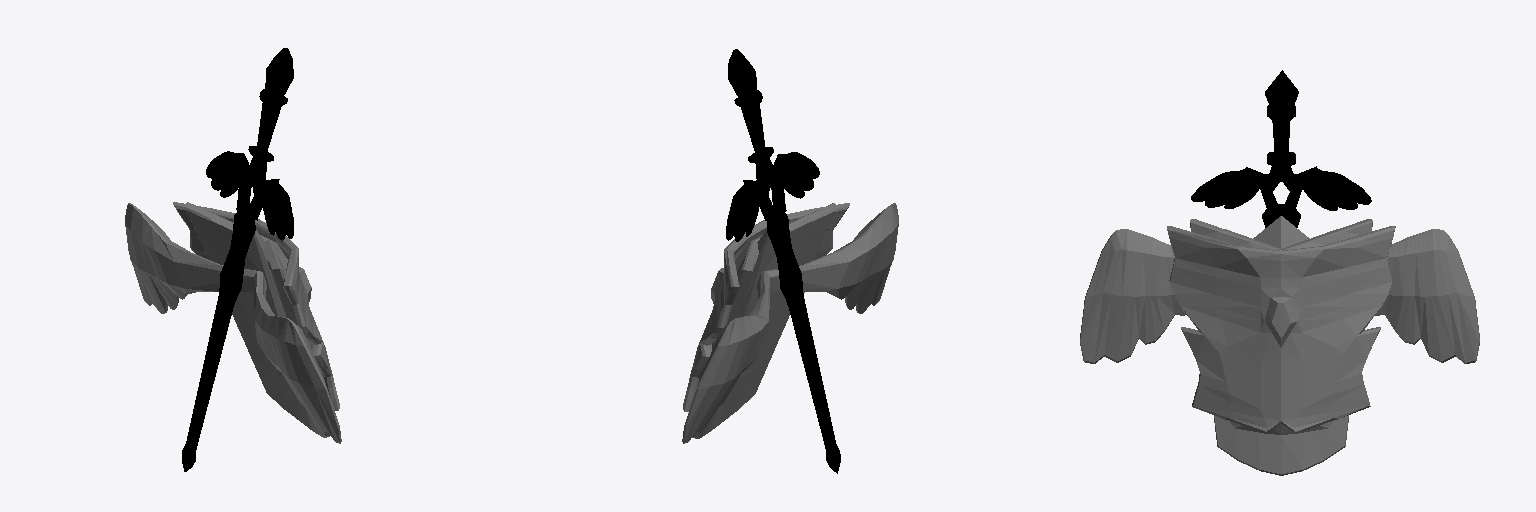
The model's file is meshSwordShield.obj.
3 renders of one model, left to right at view 1: azimuth 30°, elevation 25°; view 2: azimuth 150°, elevation 25°; view 3: azimuth 270°, elevation 25°, orthographic.
Visible parts, largest first — view 1: mesh_Shield, SwordFinal_Project_0019:mesh_Sword; view 2: mesh_Shield, SwordFinal_Project_0019:mesh_Sword; view 3: mesh_Shield, SwordFinal_Project_0019:mesh_Sword.
Part boxes in pixels (left/top/right/bottom): mesh_Shield: left=125, top=202, right=341, bottom=443; SwordFinal_Project_0019:mesh_Sword: left=182, top=48, right=293, bottom=471; mesh_Shield: left=682, top=203, right=898, bottom=443; SwordFinal_Project_0019:mesh_Sword: left=726, top=49, right=840, bottom=473; mesh_Shield: left=1080, top=216, right=1479, bottom=475; SwordFinal_Project_0019:mesh_Sword: left=1191, top=70, right=1371, bottom=227.
Bounding box in the file's own units: 2.44 × 6.63 × 6.02.